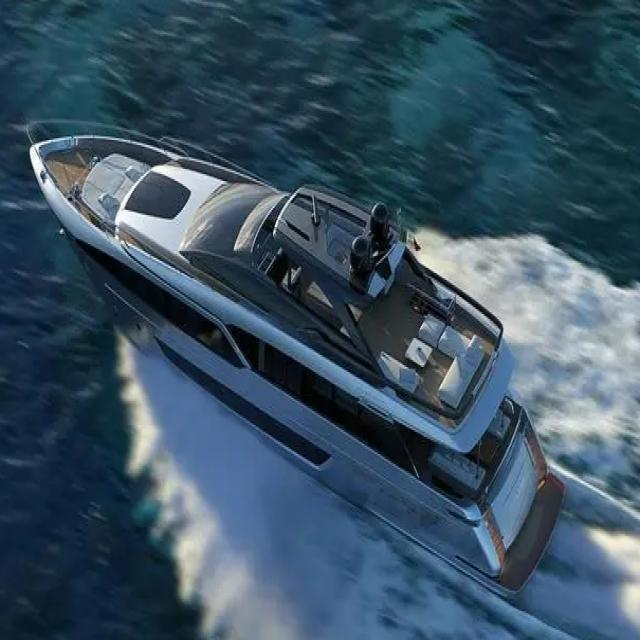houseboat: (26, 107, 560, 605)
